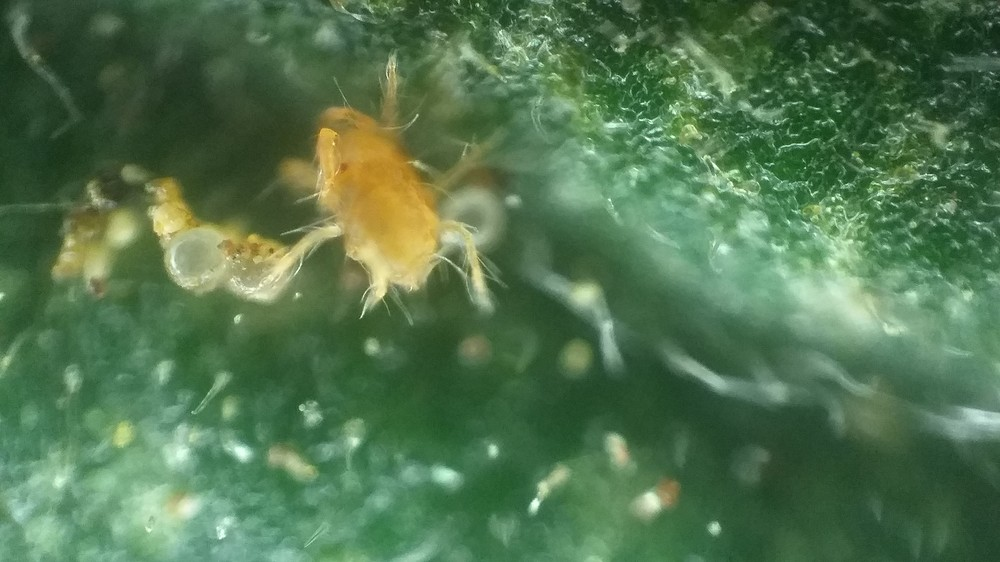Aracnido Rojo: (249, 59, 527, 341)
